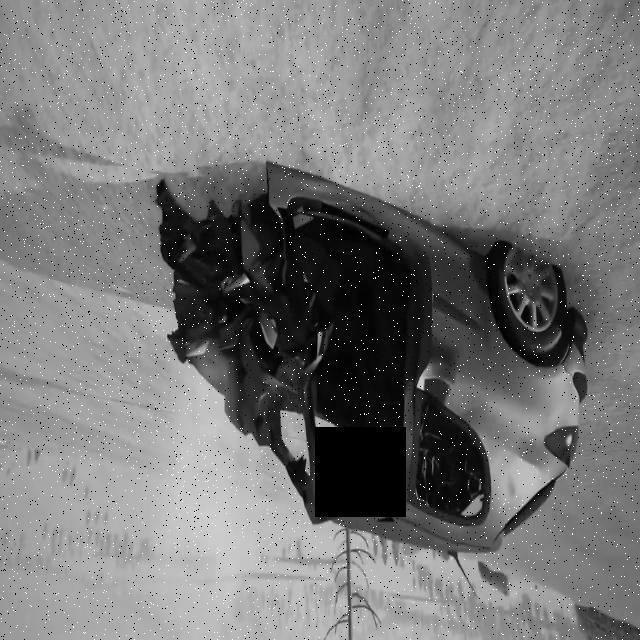severe: (150, 153, 594, 563)
